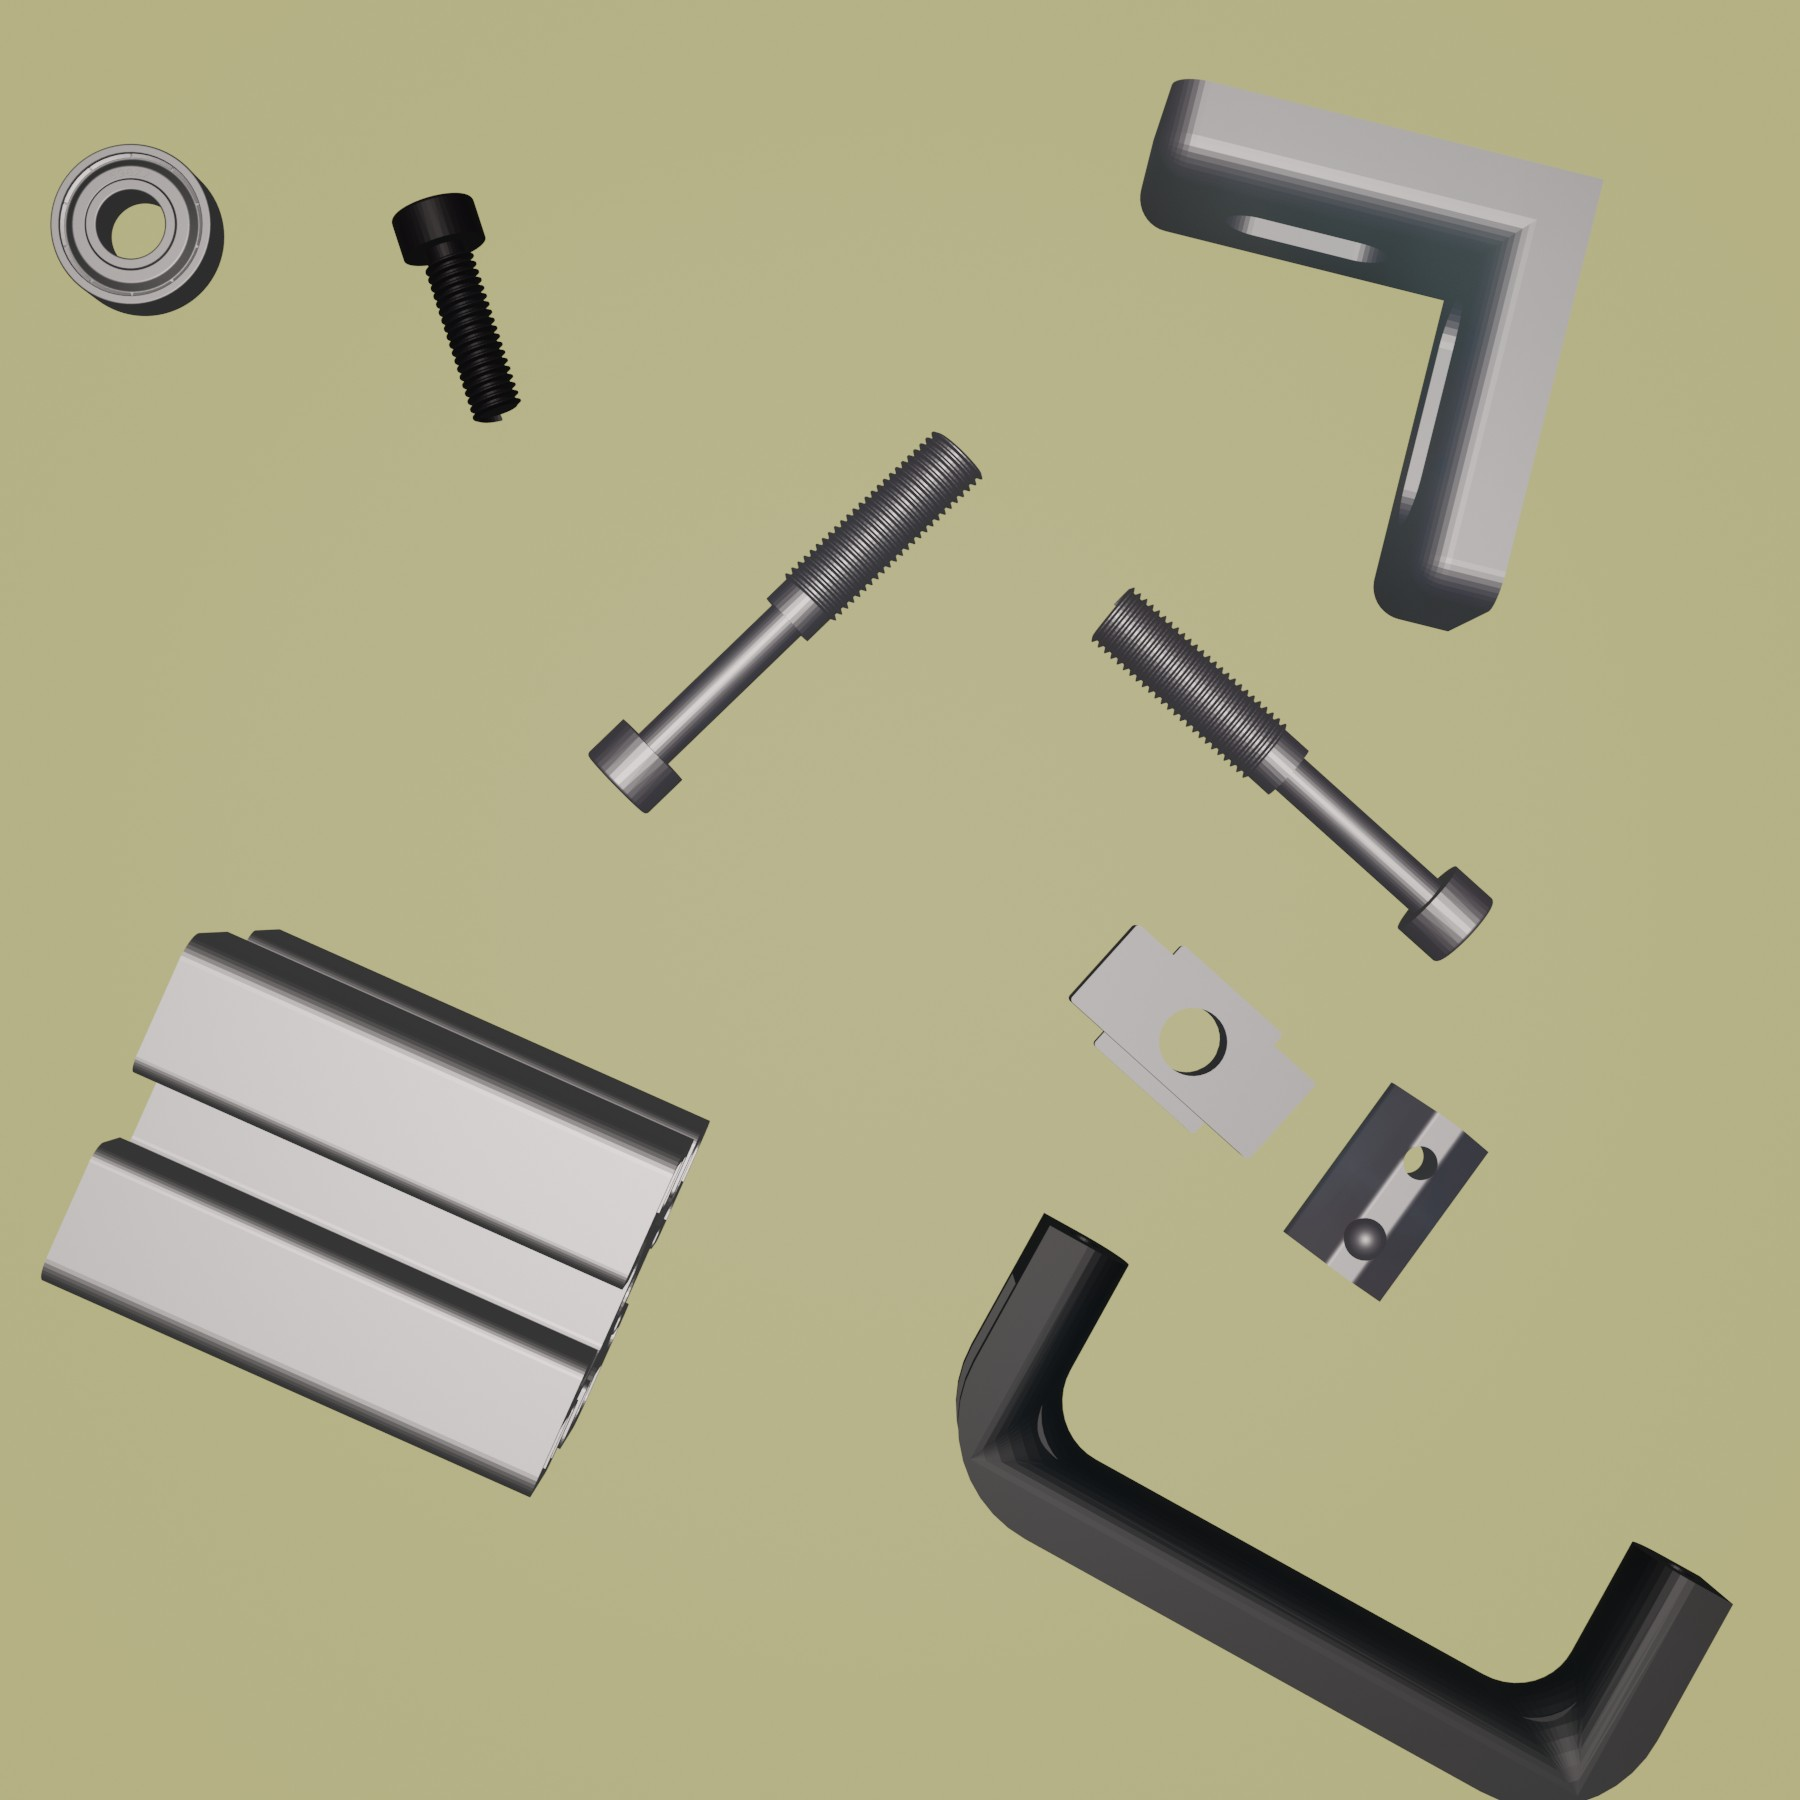Aluminium Extension: (36, 925, 710, 1502)
Ball Bearing: (46, 138, 224, 318)
Multiwinkel: (1139, 74, 1605, 631)
Pull Handle: (954, 1212, 1736, 1800)
Shoulder Socket Head Cap Screw: (1088, 584, 1493, 963), (588, 425, 981, 816)
Socket Head Cap Screw: (387, 190, 519, 424)
T Nut Square: (1066, 920, 1320, 1159)
T Spring Nut: (1282, 1076, 1488, 1302)
